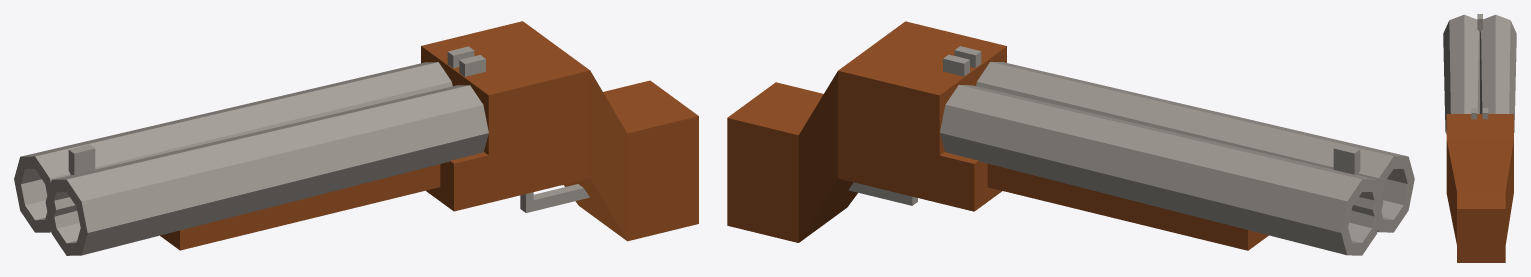
The model's file is shotgun.fbx.
3 views of the same model, side by side, from view 1: azimuth 30°, elevation 25°; view 2: azimuth 150°, elevation 25°; view 3: azimuth 270°, elevation 25° (orthographic). The views are drawn at different scales.
Parts seen in each view (by area): view 1: Cube.002, Cube.006; view 2: Cube.002, Cube.006; view 3: Cube.006, Cube.002.
Part boxes in pixels (bbox=[...]): Cube.002: bbox=[14, 62, 488, 255]; Cube.006: bbox=[421, 21, 698, 241]; Cube.002: bbox=[940, 62, 1414, 255]; Cube.006: bbox=[727, 21, 1006, 242]; Cube.006: bbox=[1446, 108, 1513, 262]; Cube.002: bbox=[1443, 14, 1516, 134].
Size of the model in its own units: 480 by 149 by 97.97.
